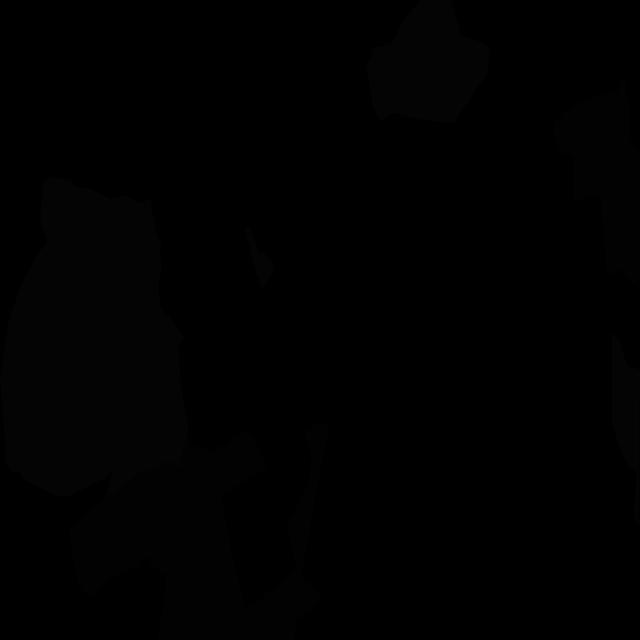cardboard: (69, 429, 296, 640), (553, 81, 640, 291), (287, 422, 330, 621)
soft_plastic: (0, 177, 188, 497), (366, 0, 490, 124), (612, 333, 640, 525), (244, 225, 274, 289)
